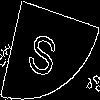S: (24, 24, 63, 79)
